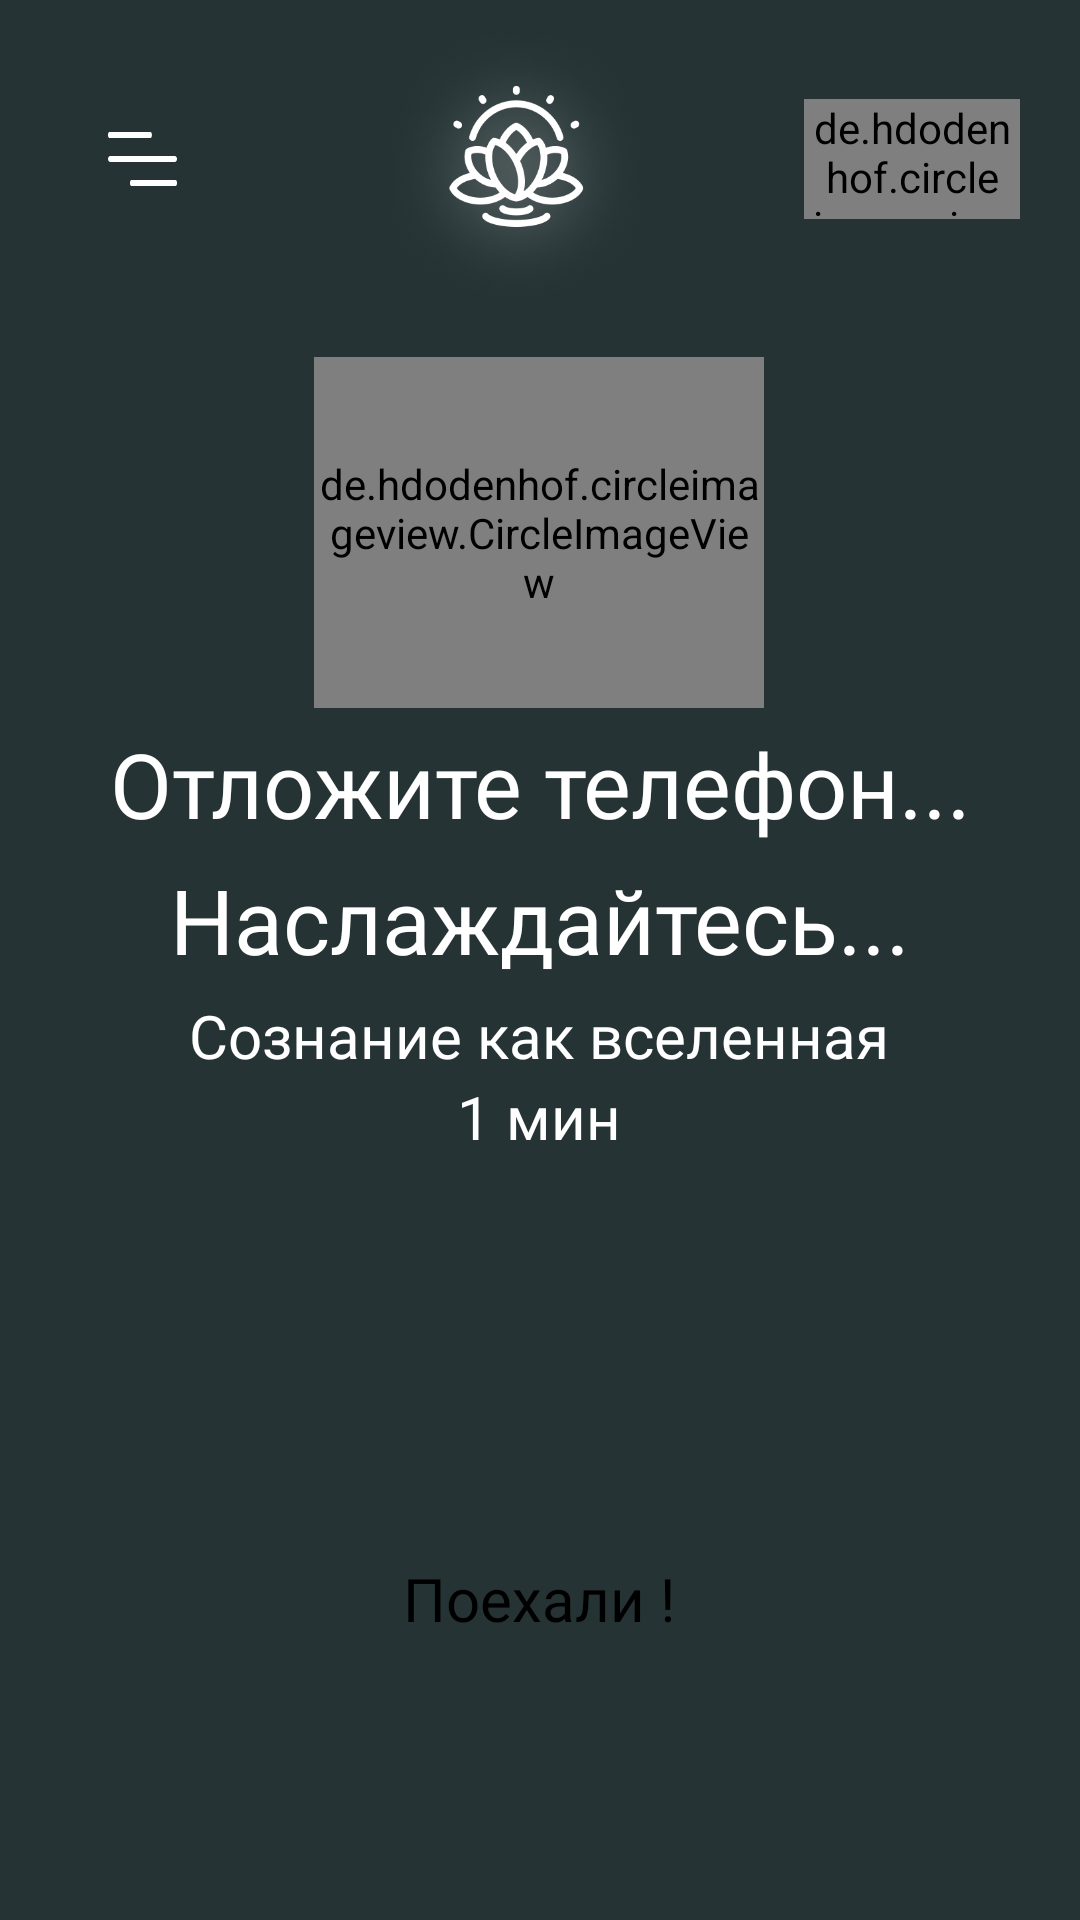

Icon click points for this 1080px×1920px phone screenshot, format (x=x, y=y):
hamburger: (x=142, y=159)
